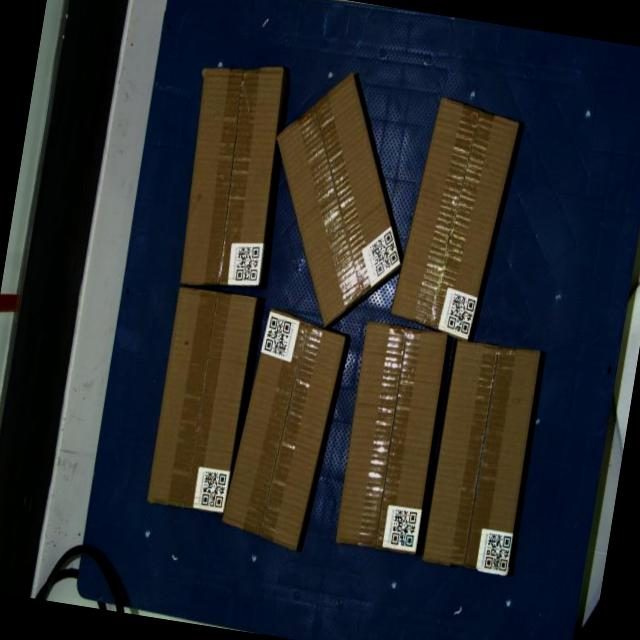box: (248, 62, 429, 338), (388, 95, 521, 344), (219, 306, 348, 553), (171, 56, 293, 296), (422, 339, 542, 576), (333, 321, 451, 555), (146, 286, 257, 514)
